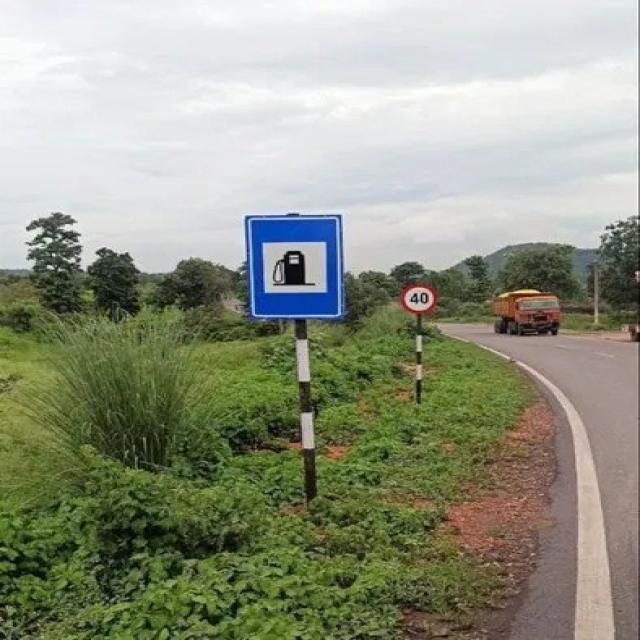petrol_station: (242, 216, 349, 324)
speedlimit_40: (397, 281, 438, 315)
